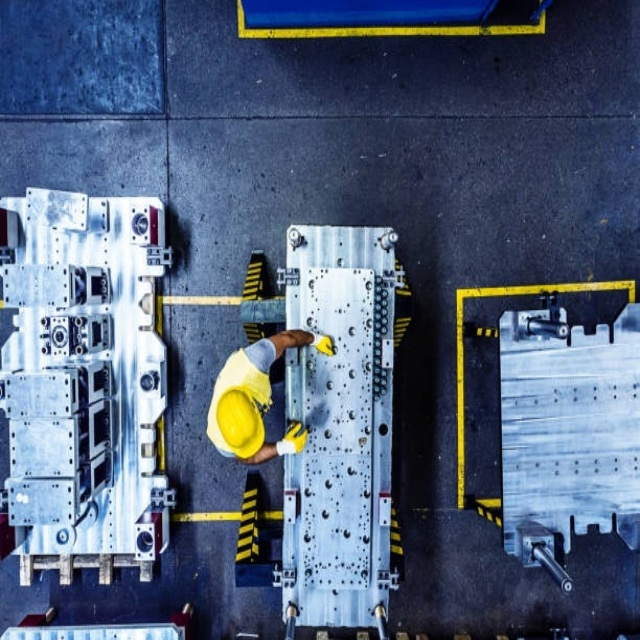Guantes: (276, 420, 308, 455), (312, 334, 334, 356)
